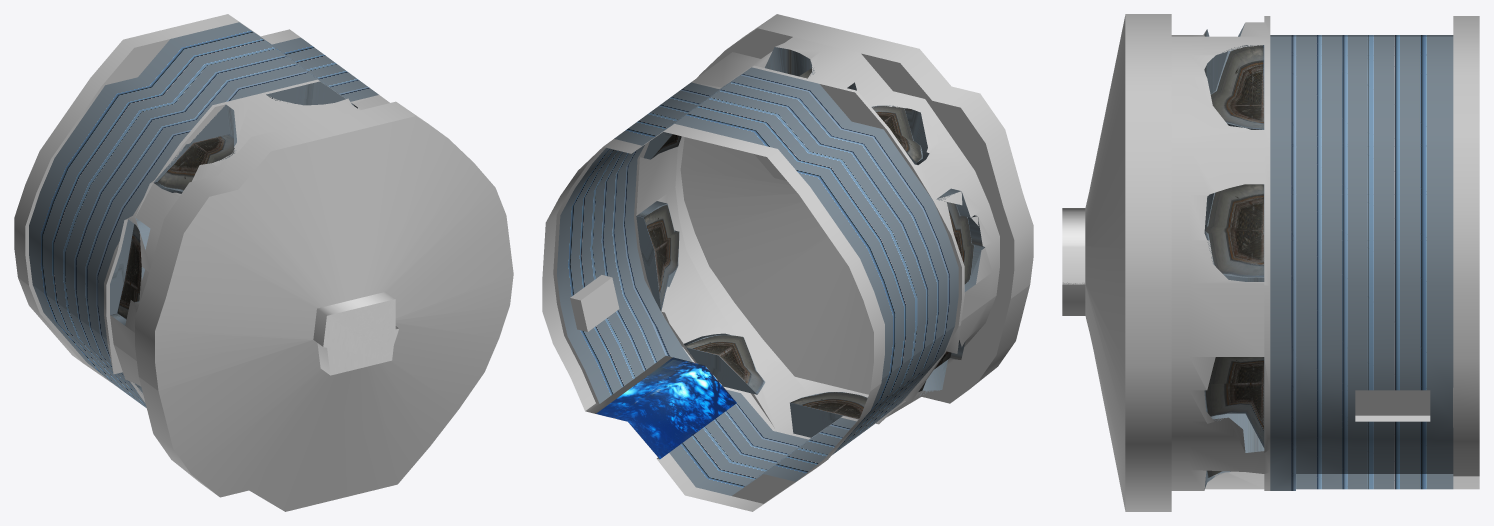
Rendered from Tp8a-origo.obj.
3 renders of one model, left to right at view 1: azimuth 30°, elevation 25°; view 2: azimuth 150°, elevation 25°; view 3: azimuth 270°, elevation 25°, orthographic. The views are drawn at different scales.
Parts seen in each view (by area): view 1: polySurface3; view 2: polySurface3; view 3: polySurface3.
Part boxes in pixels (x1=…): polySurface3: x1=14, y1=14, x2=513, y2=511; polySurface3: x1=542, y1=14, x2=1033, y2=511; polySurface3: x1=1062, y1=14, x2=1479, y2=511.
Size of the model in its own units: 6.19 by 6 by 5.33.
